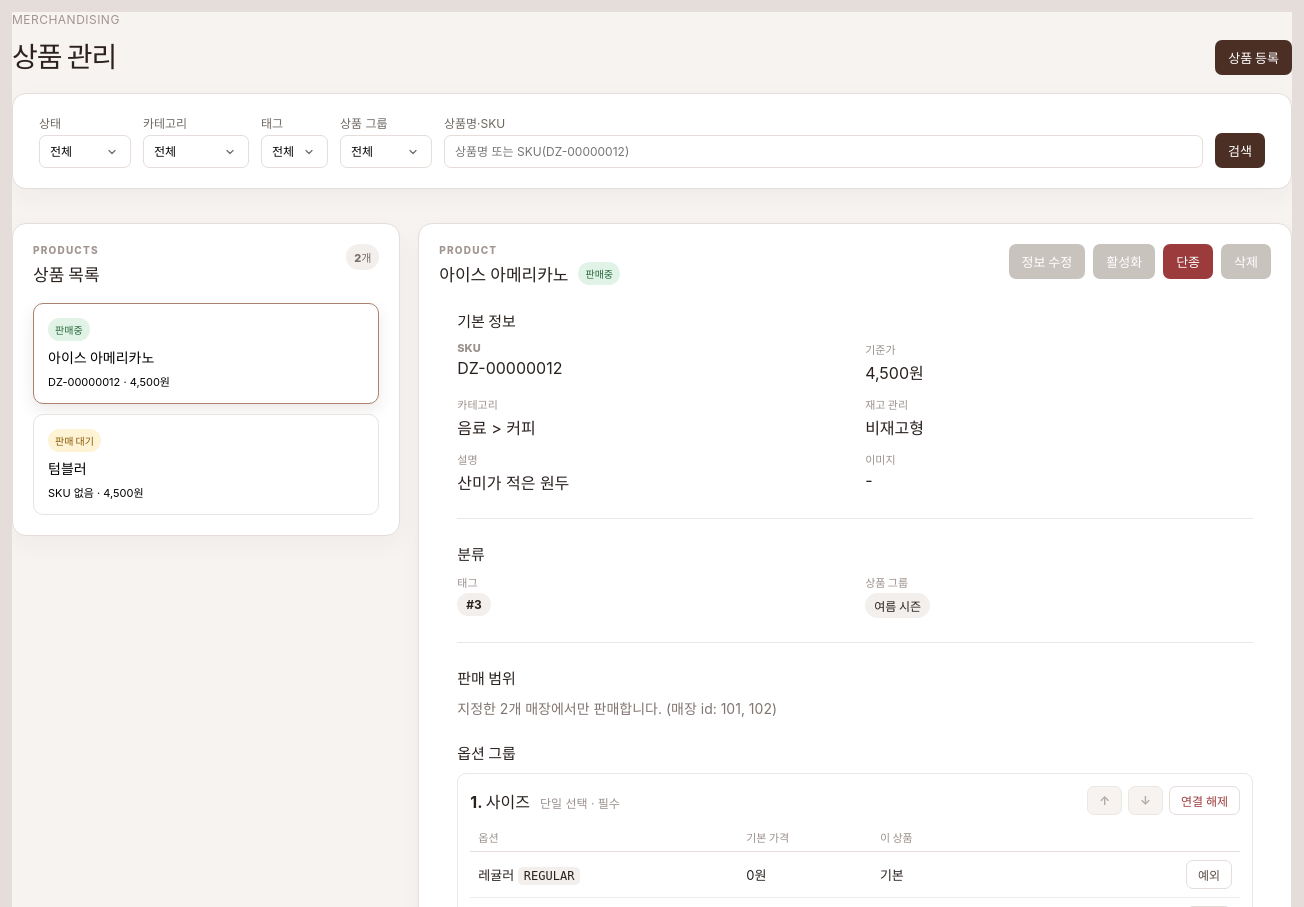
it: ProductsPage 쓰기 › 태그를 아직 못 받았으면 수정을 막는다
The width and height of the screenshot is (1304, 907).
Hover over the element showing "정보 수정": point(1047, 262) x1=1009 y1=244 x2=1085 y2=279
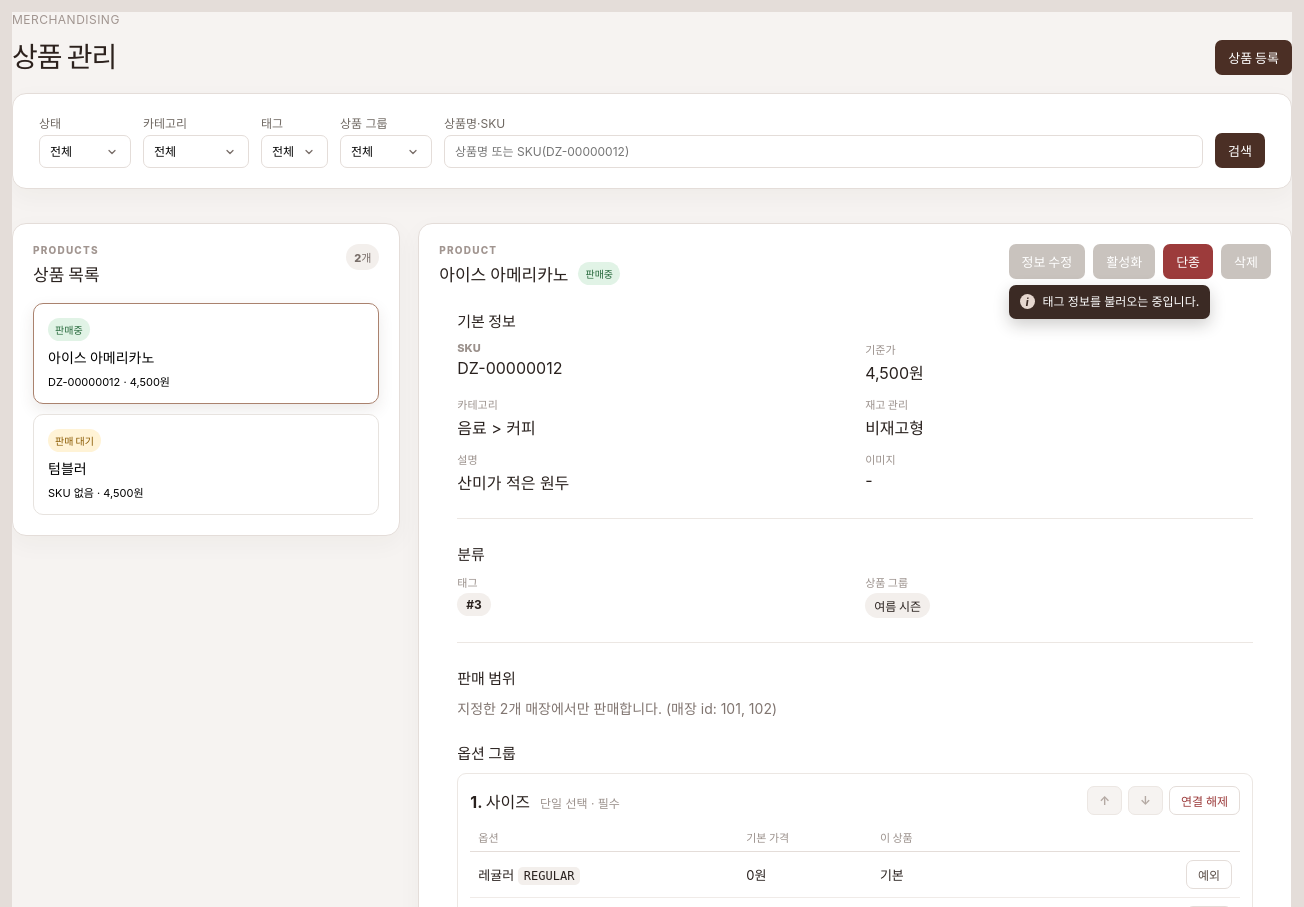
Result: the tooltip "태그 정보를 불러오는 중입니다." is shown at x1=1009 y1=285 x2=1210 y2=319
